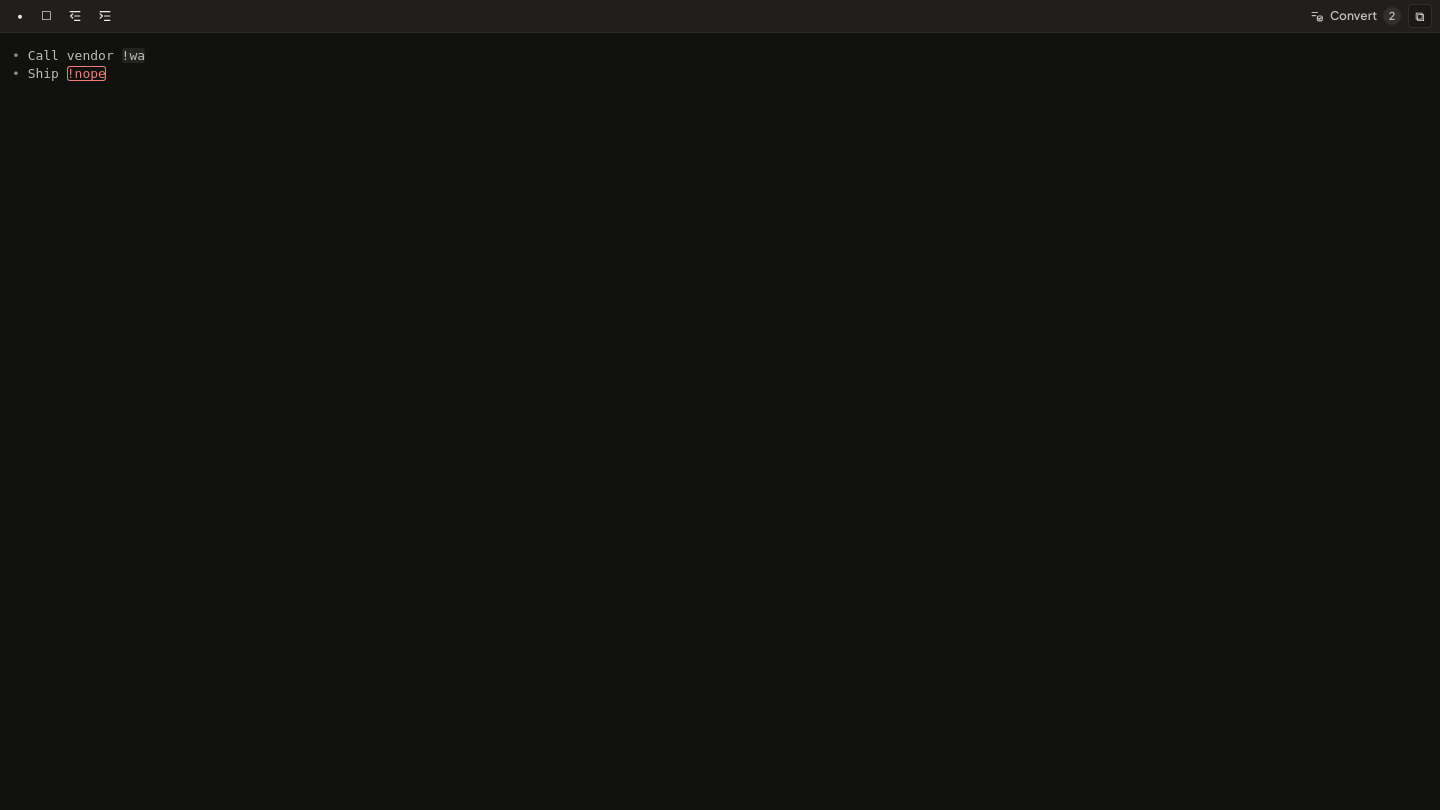
Test: Convert preview › a line’s !status gives its task the status; an unknown one stays in the title
Click the button "Convert 2" at coordinates (1354, 16), box top-left (1303, 4), bottom-right (1406, 28)
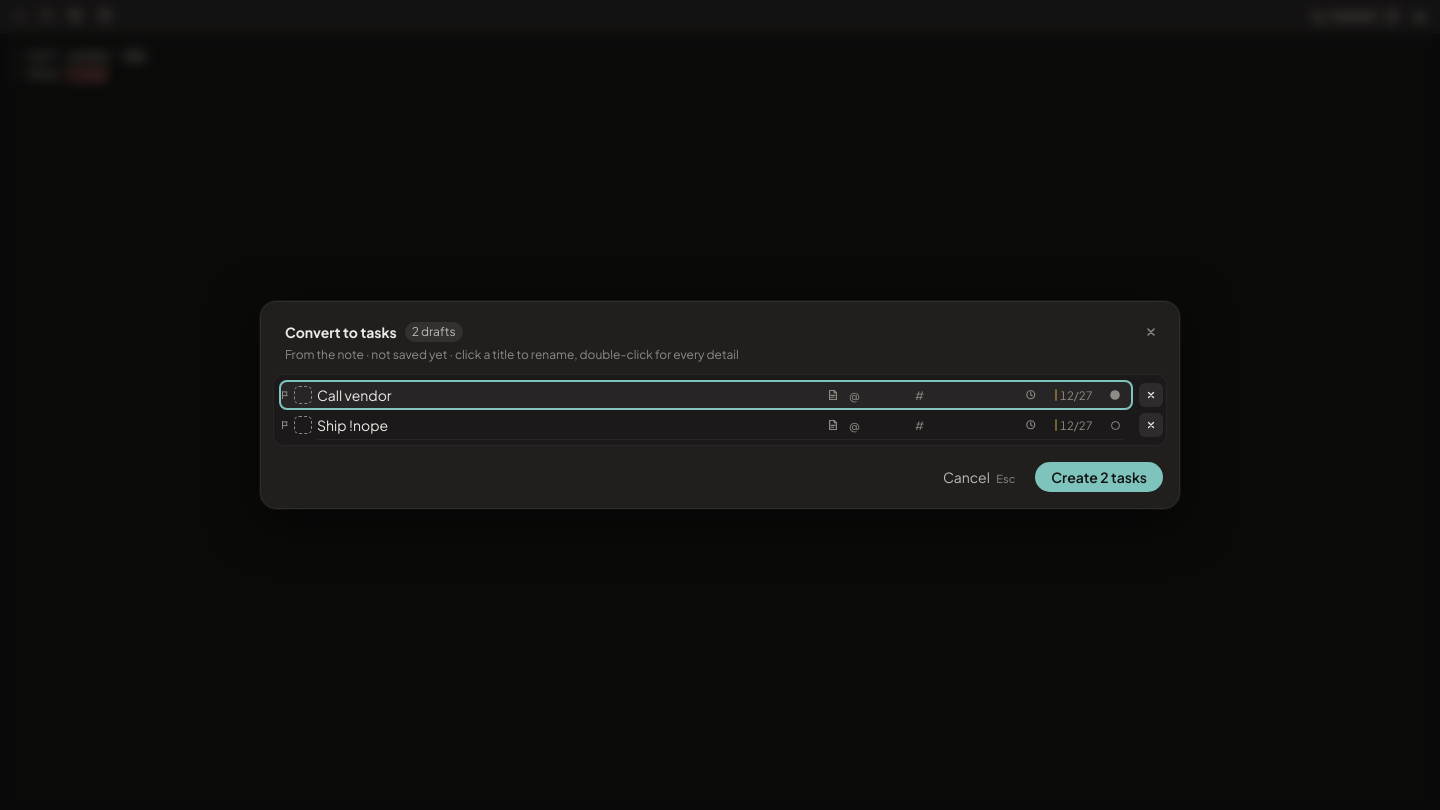
Click the button "Create 2 tasks" at coordinates (1099, 477), box top-left (1035, 462), bottom-right (1163, 492)
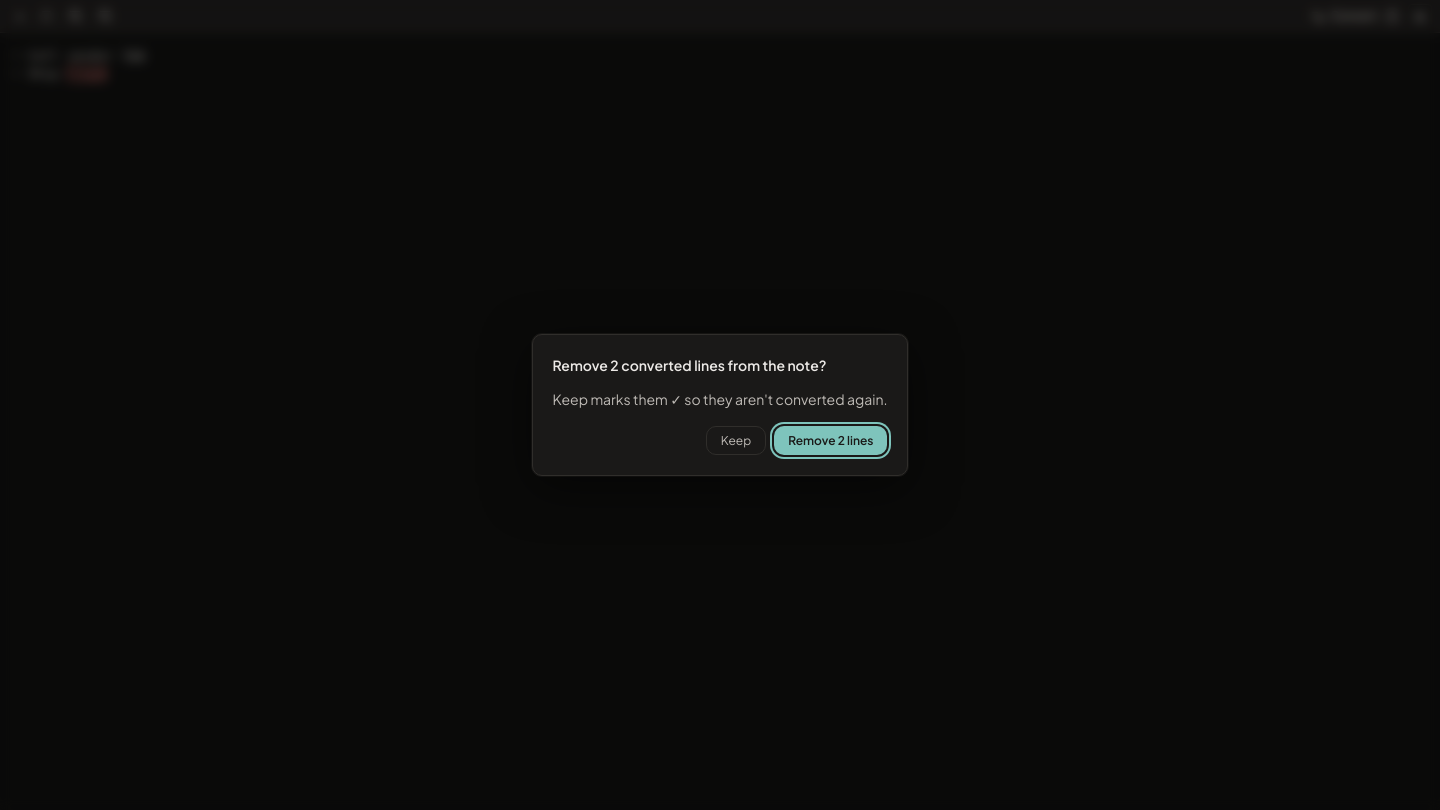
Result: the dialog "Remove 2 converted lines from the note?" is shown at top-left (532, 334), bottom-right (908, 476)
